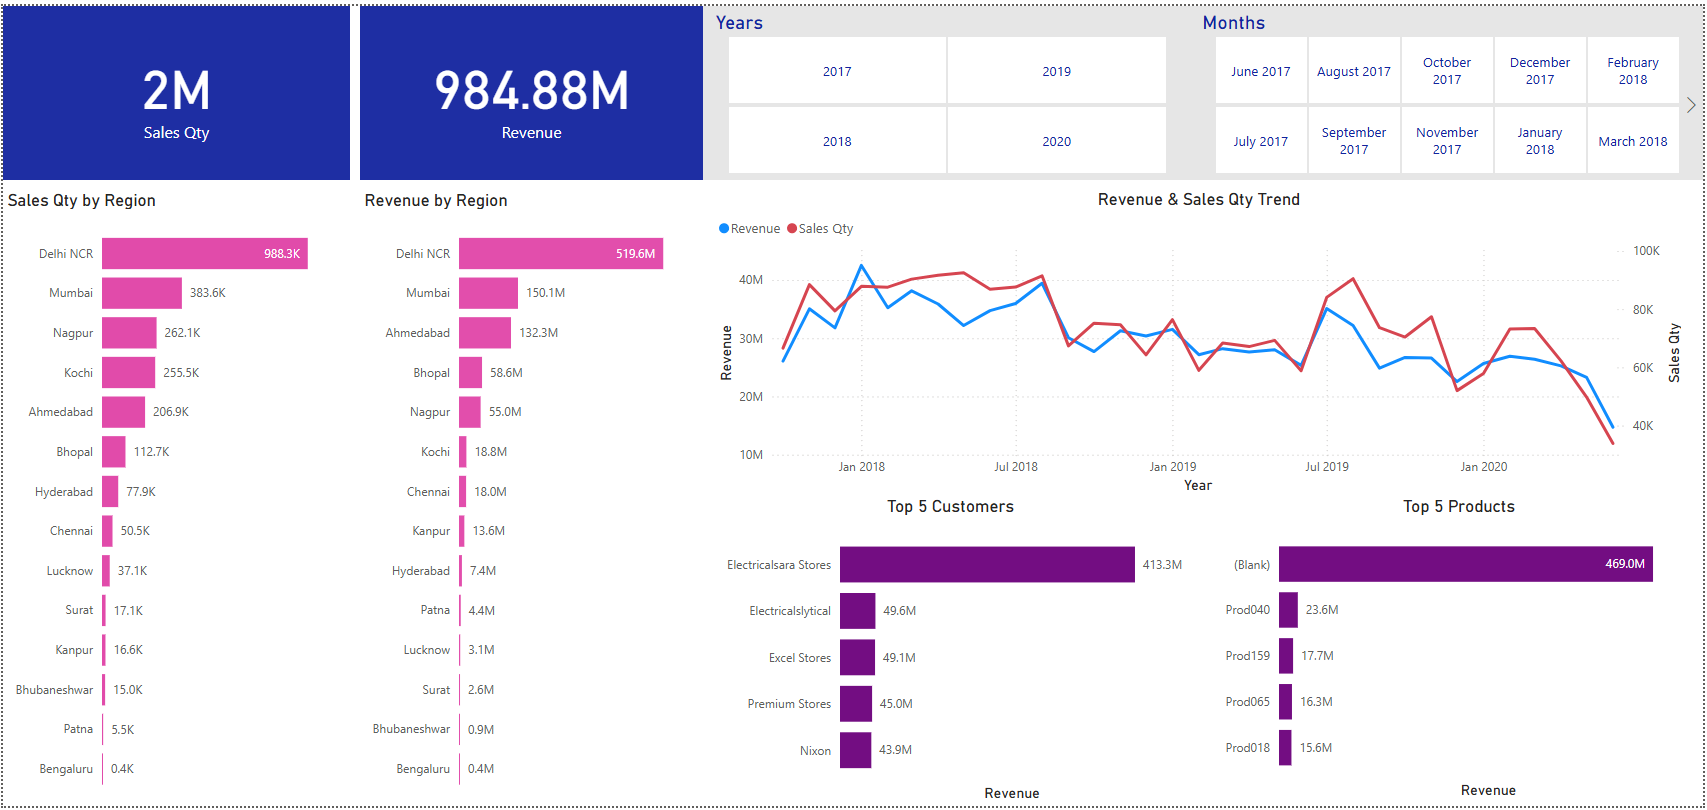

What the dashboard file says about the page in this screenshot:
{"tool":"powerbi","page":{"name":"Page 1","canvas":[1700,800],"ordinal":0},"visuals":[{"type":"card","fields":{"Values":["Basic_Measures.Revenue"]},"box":[357.1,0,342.9,174.3],"z":0},{"type":"card","fields":{"Values":["Basic_Measures.Sales Qty"]},"box":[0,0,347.1,174.3],"z":1},{"type":"barChart","title":"Revenue by Region","fields":{"Y":["Basic_Measures.Revenue"],"Category":["sales markets.markets_name"]},"box":[357.1,184.3,352.9,615.7],"z":2},{"type":"barChart","title":"Sales Qty by Region","fields":{"Y":["Basic_Measures.Sales Qty"],"Category":["sales markets.markets_name"]},"box":[0,184.3,347.1,615.7],"z":3},{"type":"slicer","fields":{"Values":["sales date.year"]},"box":[700,0,487.1,174.3],"z":4},{"type":"slicer","fields":{"Values":["sales date.cy_date"]},"box":[1187.1,0,512.9,174.3],"z":5},{"type":"barChart","title":"Top 5 Customers","fields":{"Y":["Basic_Measures.Revenue"],"Category":["sales customers.custmer_name"]},"box":[710,490,476.2,310],"z":6},{"type":"barChart","title":"Top 5 Products","fields":{"Y":["Basic_Measures.Revenue"],"Category":["sales products.product_code"]},"box":[1213.3,490,486.7,306.7],"z":7},{"type":"lineChart","title":"Revenue & Sales Qty Trend","fields":{"Y":["Basic_Measures.Revenue"],"Y2":["Basic_Measures.Sales Qty"],"Category":["sales date.cy_date.Variation.Date Hierarchy.Year","sales date.cy_date.Variation.Date Hierarchy.Quarter","sales date.cy_date.Variation.Date Hierarchy.Month","sales date.cy_date.Variation.Date Hierarchy.Day"]},"box":[710,183.3,973.3,308.3],"z":8}]}

Visuals, with their boxes in screenshot pixels (x1, y1, x2, y2), scaled from the page's 1700x800 canvas onto the 1707x810 screenshot:
card - Basic_Measures.Revenue: crop(359, 0, 703, 176)
card - Basic_Measures.Sales Qty: crop(0, 0, 349, 176)
"Revenue by Region" barChart: crop(359, 187, 713, 809)
"Sales Qty by Region" barChart: crop(0, 187, 349, 809)
slicer - sales date.year: crop(703, 0, 1192, 176)
slicer - sales date.cy_date: crop(1192, 0, 1706, 176)
"Top 5 Customers" barChart: crop(713, 496, 1191, 809)
"Top 5 Products" barChart: crop(1218, 496, 1706, 807)
"Revenue & Sales Qty Trend" lineChart: crop(713, 186, 1690, 498)
